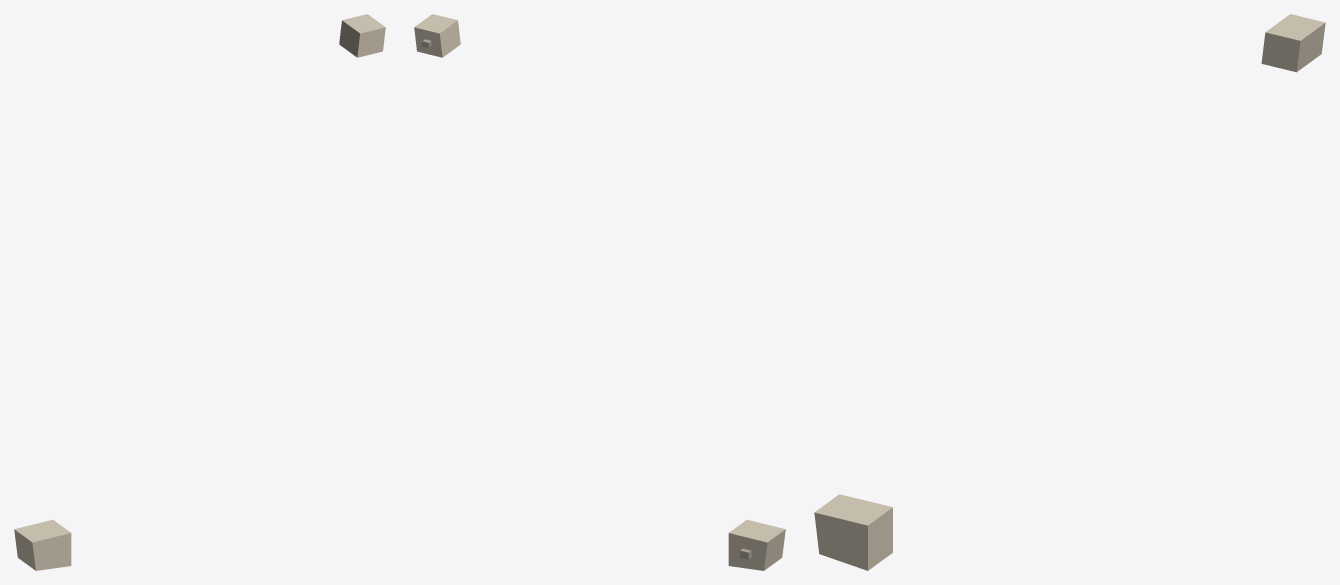
File: historic-palestine-14_30_3557_3245.glb
The picture shows the model from 3 angles, left to right: view 1: azimuth 30°, elevation 25°; view 2: azimuth 150°, elevation 25°; view 3: azimuth 330°, elevation 25°; orthographic projection. The views are drawn at different scales.
Parts seen in each view (by area): view 1: Building_.001, Building_; view 2: Building_.001, Building_; view 3: Building_.001, Building_.
Boxes of the visible parts, <box> form: Building_.001: <box>14,520,71,570</box>; Building_: <box>339,14,385,57</box>; Building_.001: <box>728,520,785,570</box>; Building_: <box>414,14,460,57</box>; Building_.001: <box>814,494,892,570</box>; Building_: <box>1261,14,1325,72</box>.
Bounding box in the file's own units: 84.01 × 105 × 8.7.
